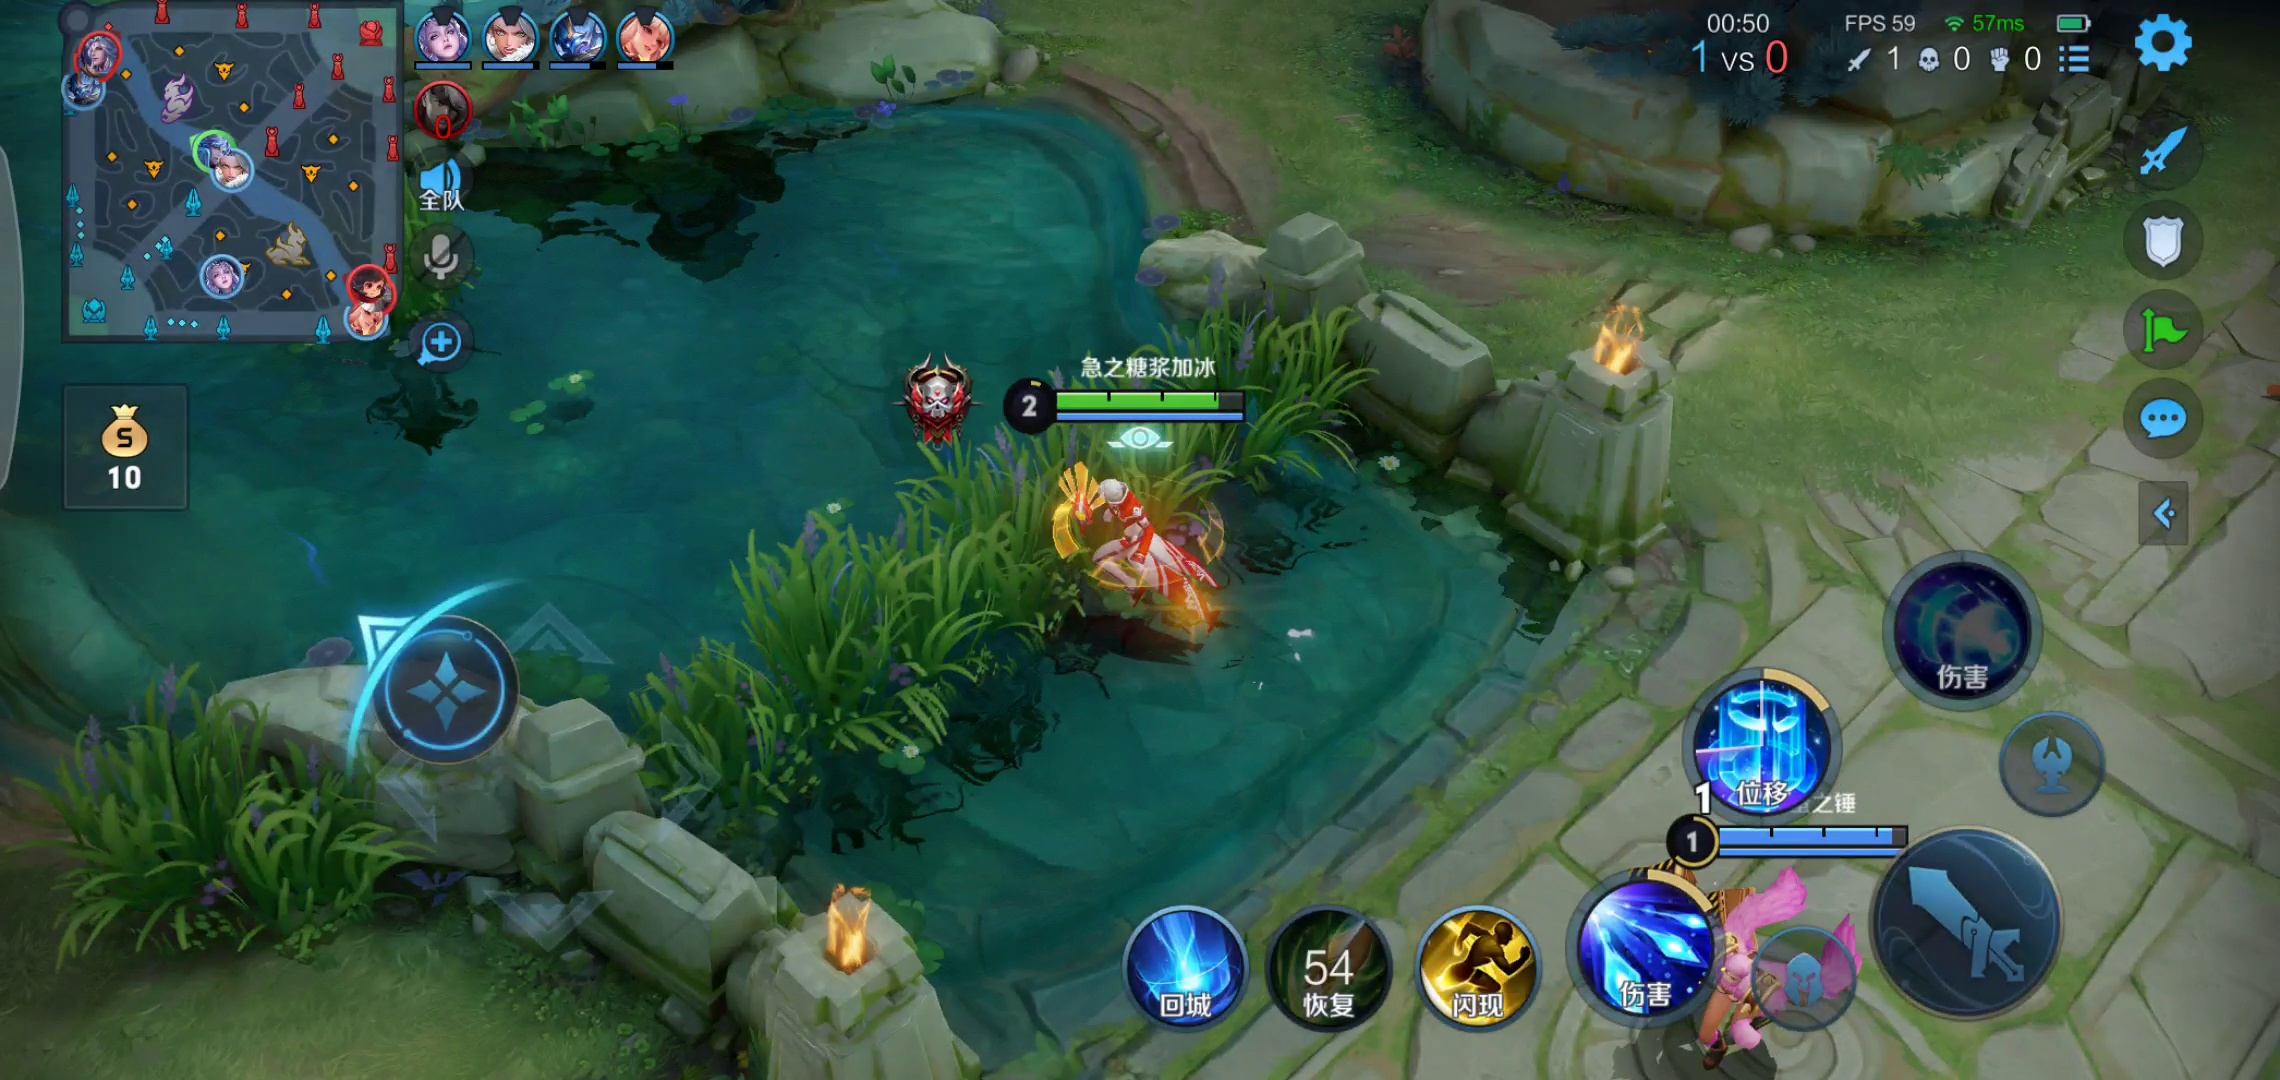grass: (647, 279, 1368, 834), (33, 690, 407, 962)
hero: (1636, 843, 1864, 1080), (1080, 487, 1232, 642)
